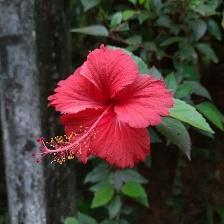hibiscus: (34, 43, 178, 176)
